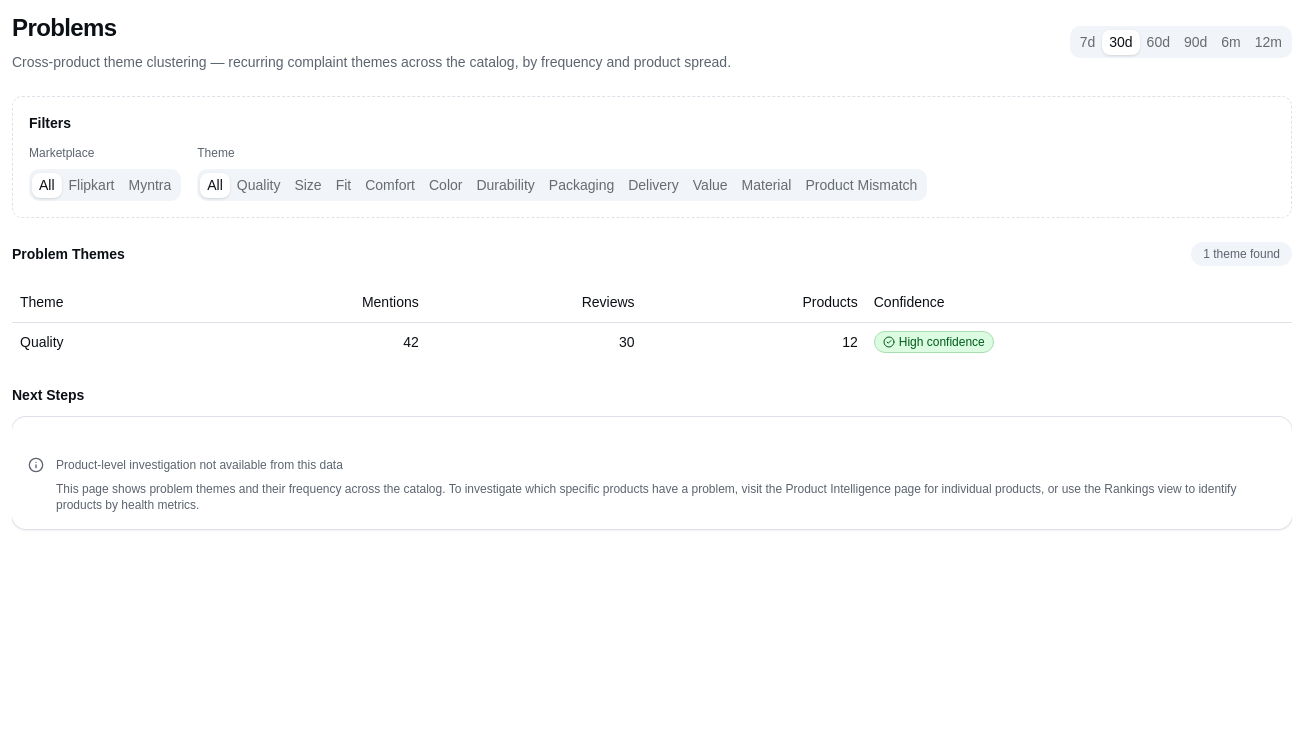
Problems (Phase 7 Step 6) › 14. window/platform/theme filters round-trip through the URL and request the new values
The image size is (1304, 732).
Click the tab "90d".
click(1196, 42)  # box [1177,30,1214,54]
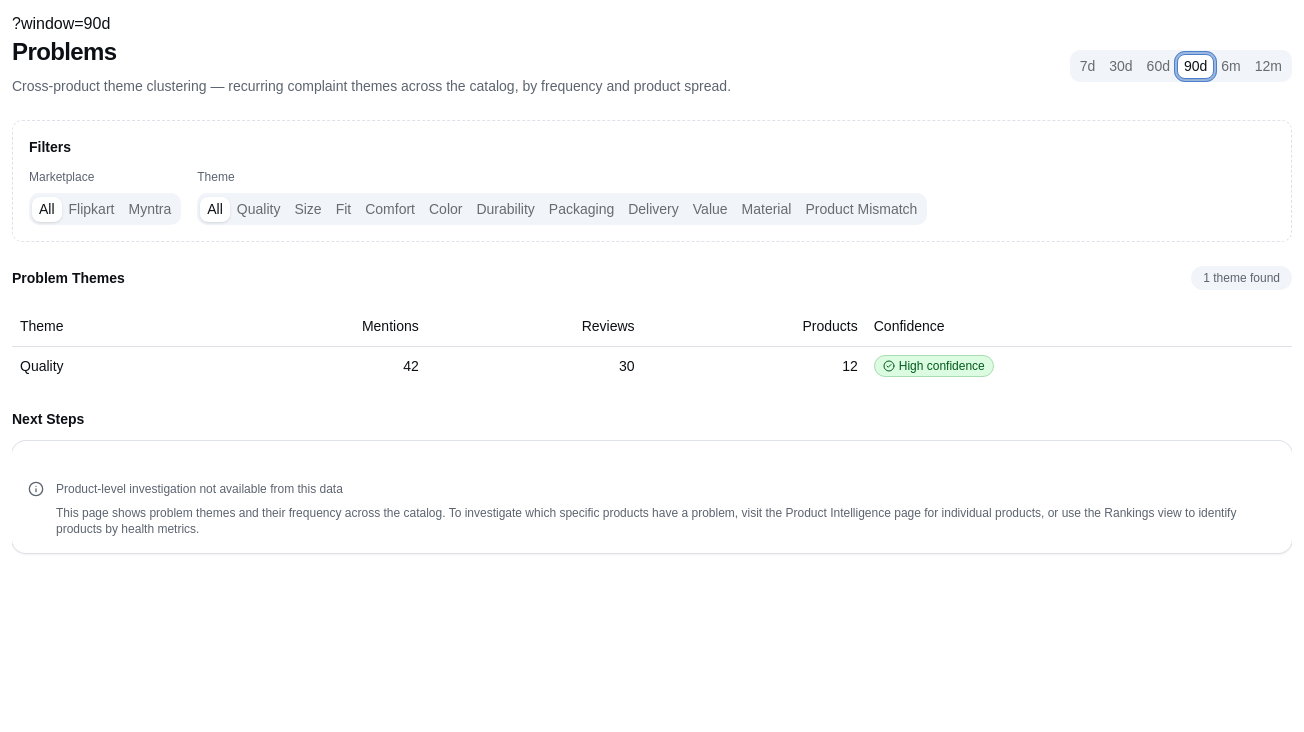
Expected: the text with test id "location-search" shows "window=90d", [12,15,110,32]
Click the tab "Flipkart".
click(92, 209)  # box [62,196,122,222]
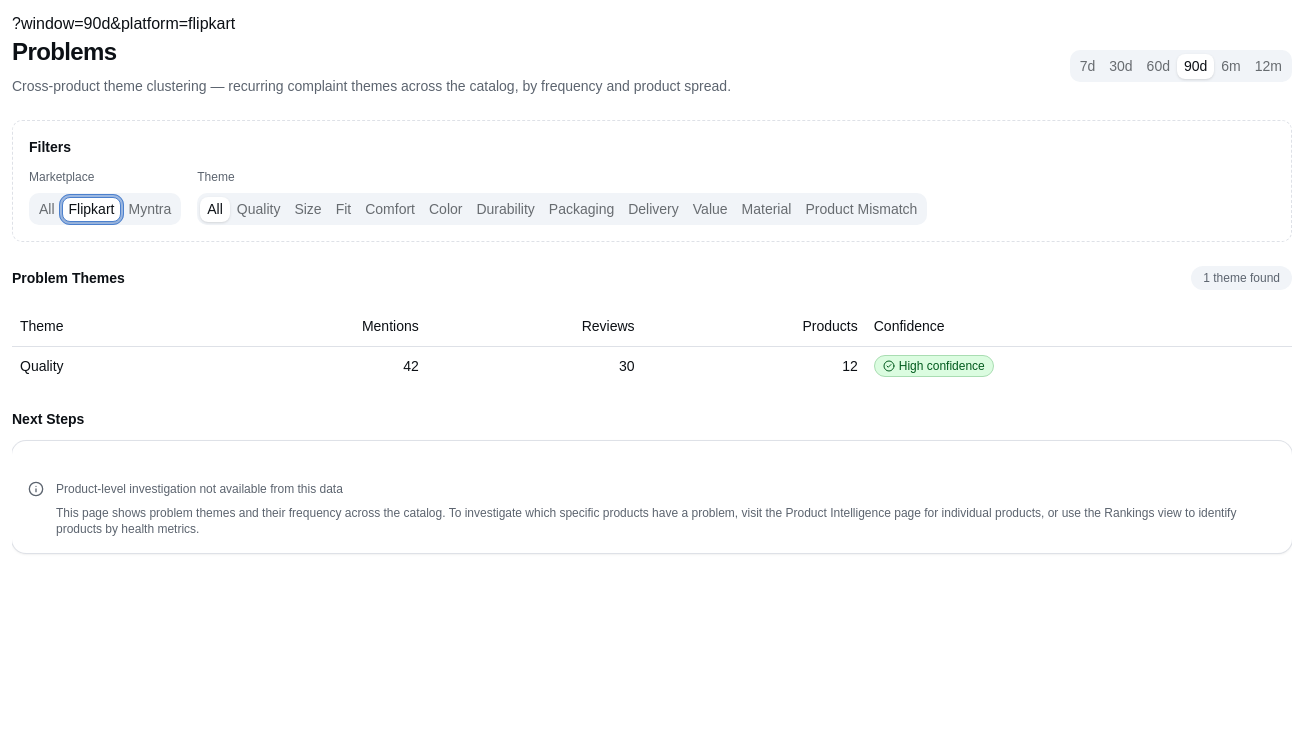
Expected: the text with test id "location-search" shows "platform=flipkart", [12,15,235,32]
Click the tab "durability".
click(506, 209)  # box [470,196,542,222]
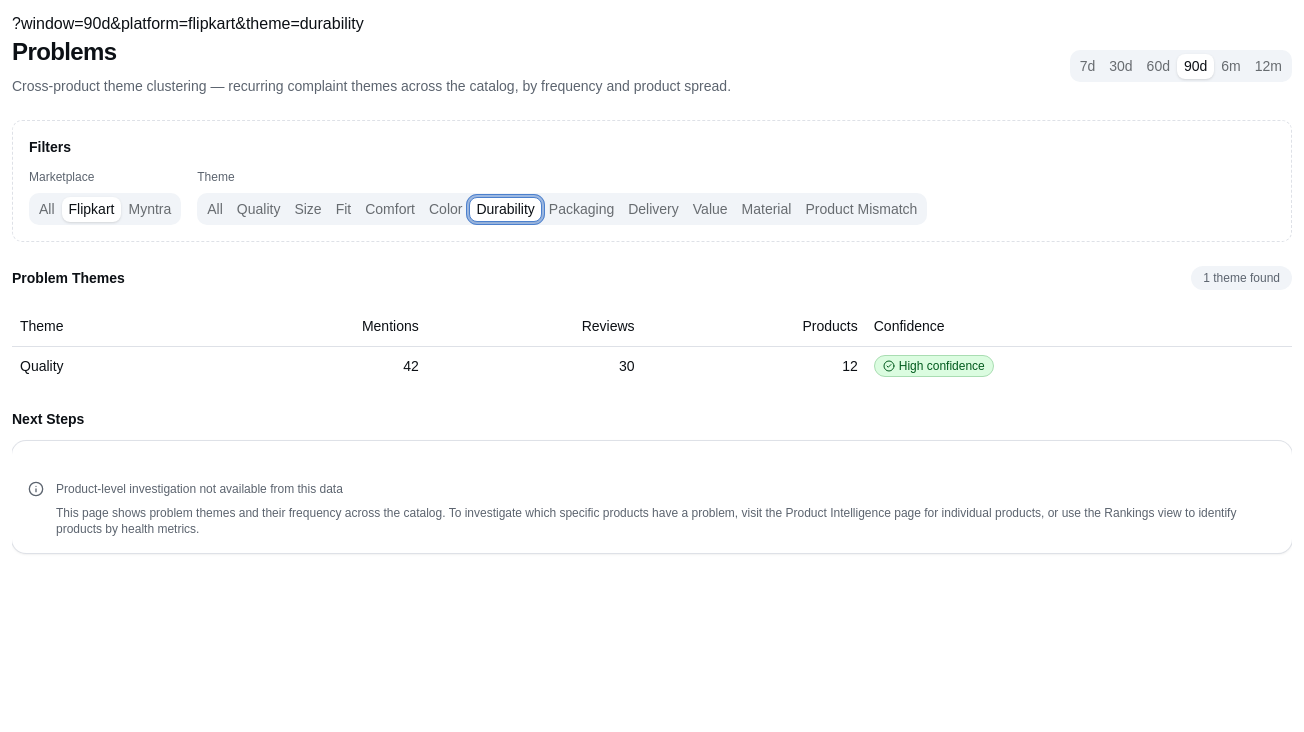
Expected: the text with test id "location-search" shows "theme=durability", [12,15,364,32]
